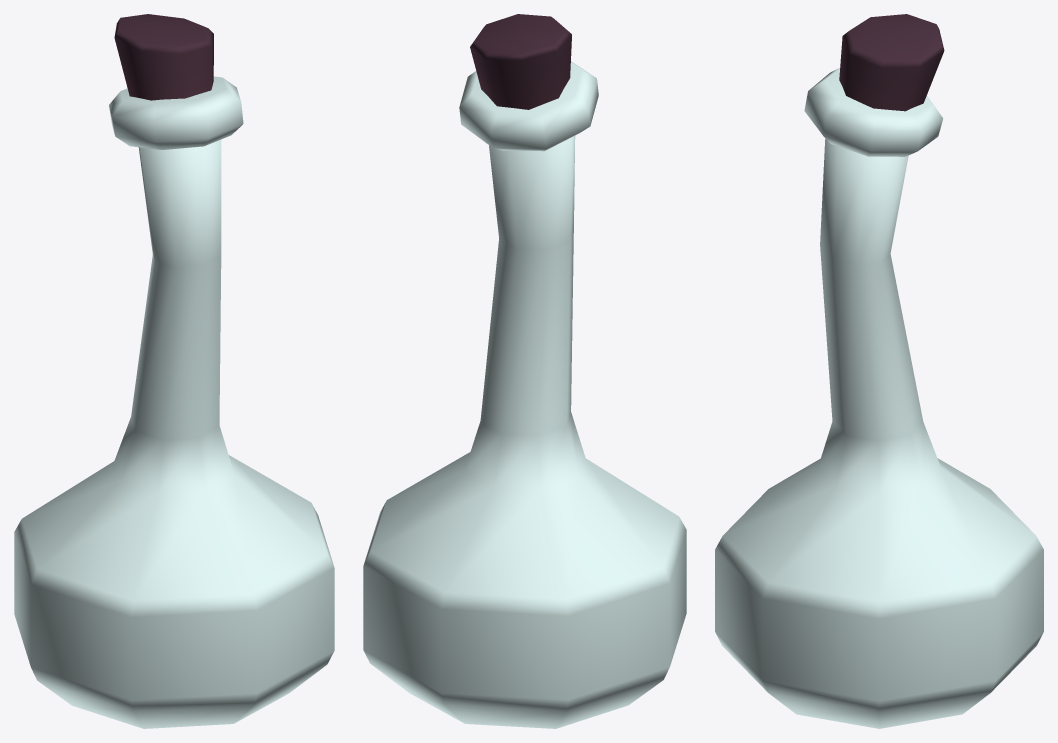
The model's file is Hyperjump_Serum.fbx.
The picture shows the model from 3 angles, left to right: view 1: azimuth 30°, elevation 25°; view 2: azimuth 150°, elevation 25°; view 3: azimuth 270°, elevation 25°; orthographic projection.
Parts seen in each view (by area): view 1: Hyperjump_Serum; view 2: Hyperjump_Serum; view 3: Hyperjump_Serum.
Part boxes in pixels (bbox=[...]): Hyperjump_Serum: bbox=[14, 14, 334, 728]; Hyperjump_Serum: bbox=[363, 14, 686, 728]; Hyperjump_Serum: bbox=[715, 14, 1043, 728].
Size of the model in its own units: 29.24 by 29.24 by 63.26.
1 material, 1 textured.
